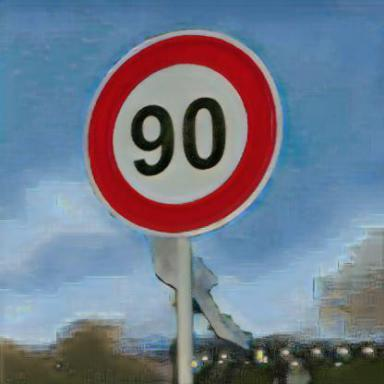Speed_limit_90: (89, 36, 277, 232)
